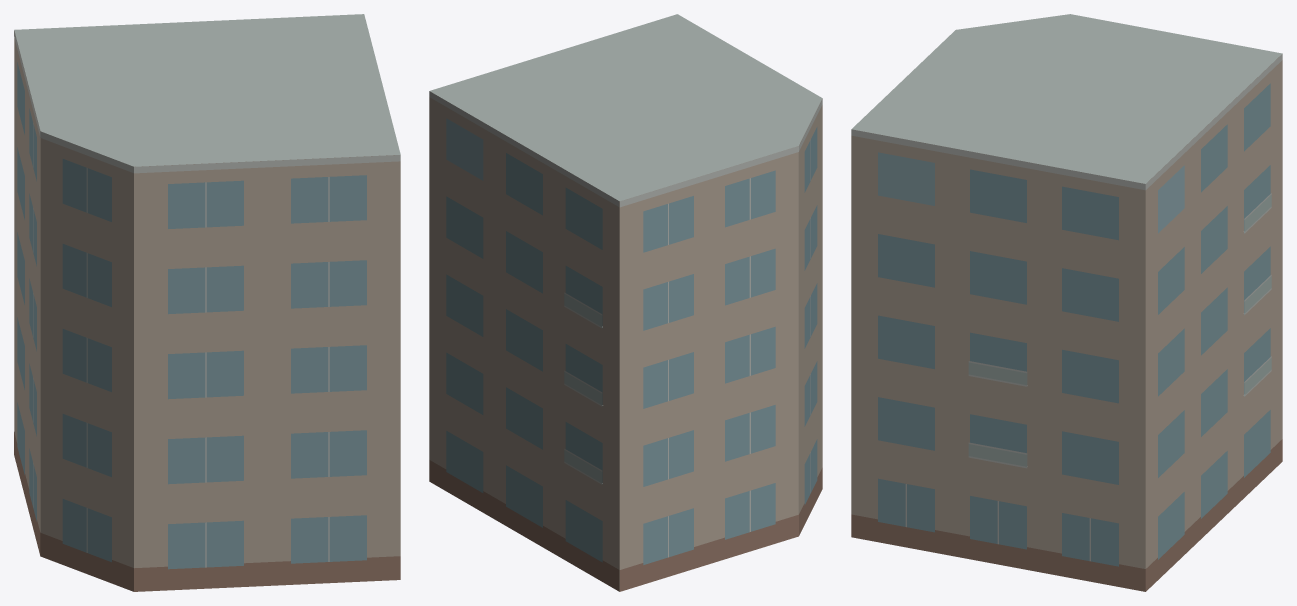
File: survey-upis-32680264.glb
3 views of the same model, side by side, from view 1: azimuth 30°, elevation 25°; view 2: azimuth 150°, elevation 25°; view 3: azimuth 270°, elevation 25° (orthographic). The views are drawn at different scales.
Visible parts, largest first — view 1: survey-upis-32680264.tmp; view 2: survey-upis-32680264.tmp; view 3: survey-upis-32680264.tmp.
Boxes of the visible parts, x1,y1,x2,y2 form: survey-upis-32680264.tmp: (14,14,400,591); survey-upis-32680264.tmp: (429,14,822,591); survey-upis-32680264.tmp: (851,14,1282,591).
Size of the model in its own units: 14.04 by 15.7 by 15.05.
